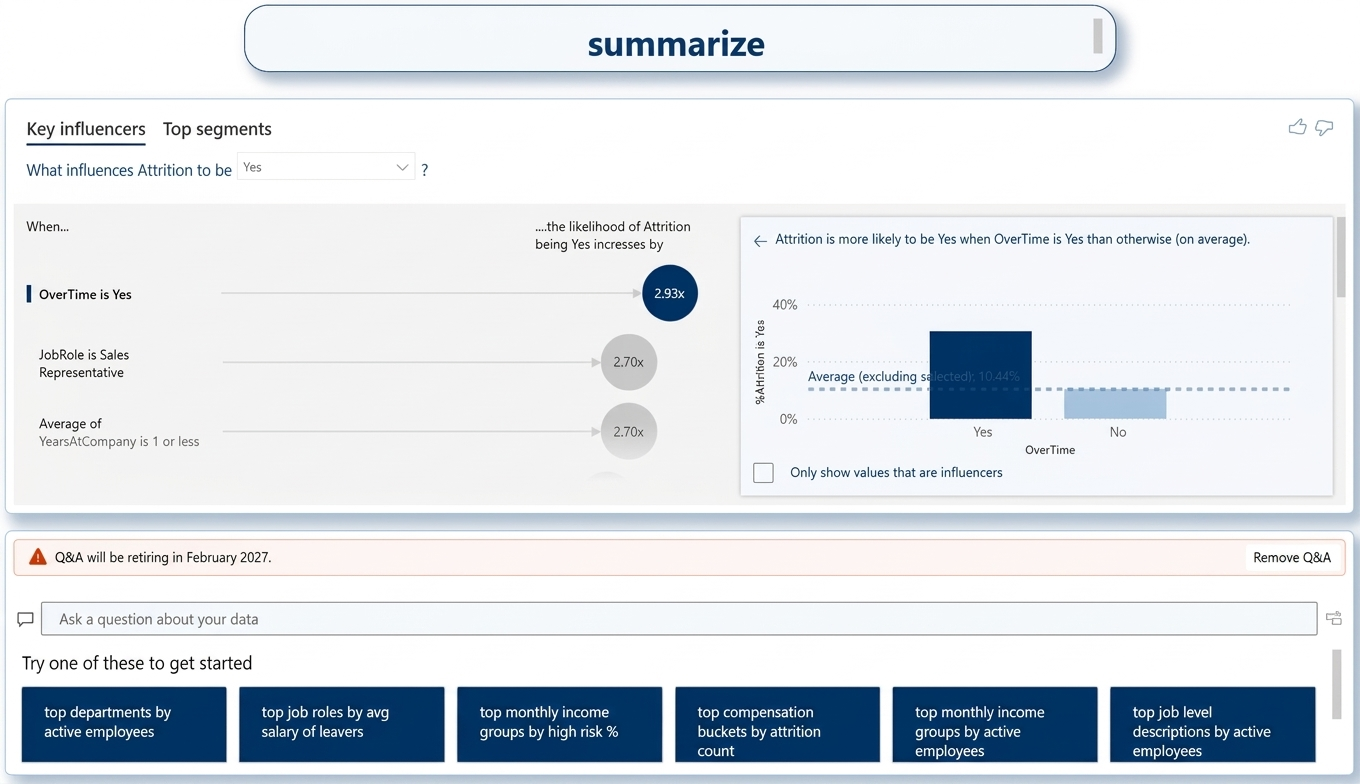

Layout of this report page (visuals, bound fields, positions):
{"tool":"powerbi","page":{"name":"summarize","canvas":[1280,720],"ordinal":6},"visuals":[{"type":"textbox","box":[236.5,9.7,808.3,62.6],"z":0},{"type":"keyDriversVisual","fields":{"Target":["HrData.Attrition"],"ExplainBy":["Avg(HrData.YearsAtCompany)","Avg(HrData.DistanceFromHome)","HrData.Age Group","HrData.EducationField","Avg(HrData.MonthlyIncome)","Avg(HrData.PercentSalaryHike)","HrData.JobSatisfactionLevel","HrData.Department","HrData.JobRole","HrData.Gender","HrData.MaritalStatus","HrData.OverTime"]},"box":[16,96,1248,400],"z":1000},{"type":"qnaVisual","box":[15.3,507.8,1248,212.9],"z":2000}]}

Visuals, with their boxes in screenshot pixels (x1, y1, x2, y2), scaled from the page's 1280x720 canvas onto the 1360x784 screenshot:
textbox: <region>251, 11, 1110, 79</region>
keyDriversVisual - HrData.Attrition x Avg(HrData.YearsAtCompany): <region>17, 105, 1343, 540</region>
qnaVisual: <region>16, 553, 1342, 783</region>
